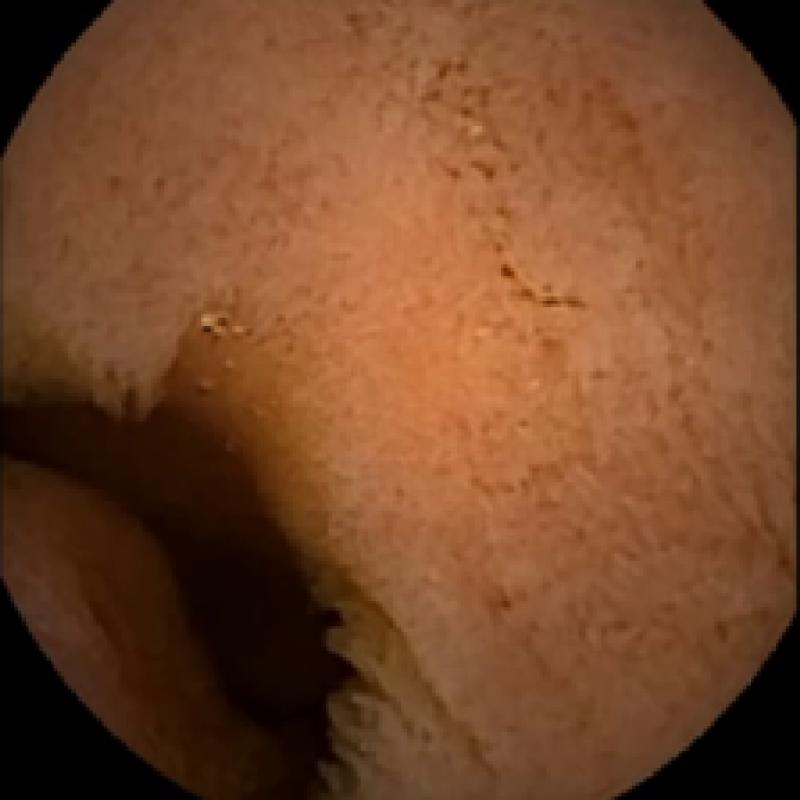bleeding: (0, 389, 346, 767)
